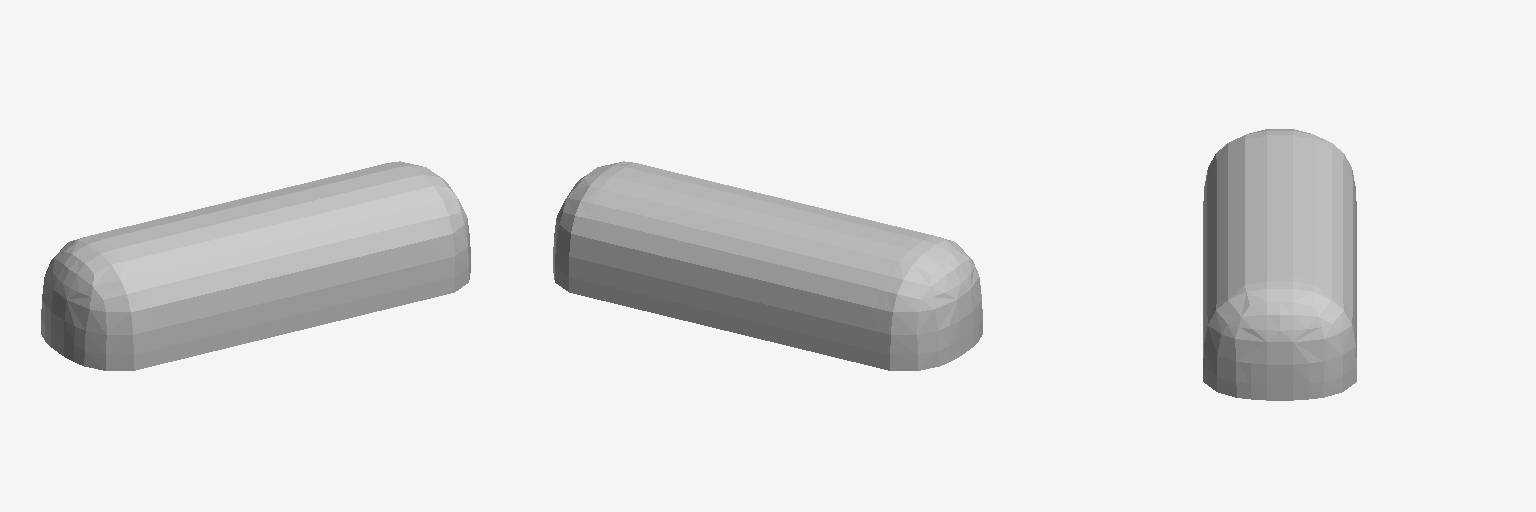
Rendered from note.obj.
The picture shows the model from 3 angles: view 1: azimuth 30°, elevation 25°; view 2: azimuth 150°, elevation 25°; view 3: azimuth 270°, elevation 25°; orthographic projection.
Visible parts, largest first — view 1: Notes; view 2: Notes; view 3: Notes.
Part boxes in pixels (x1,y1,x2,y2): Notes: (41,161,470,370); Notes: (553,161,982,370); Notes: (1203,129,1356,400).
Size of the model in its own units: 0.746 by 0.1713 by 0.2501.